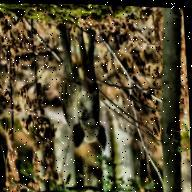boar: (43, 22, 123, 164)
